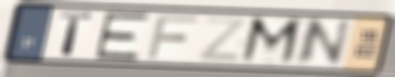E: (92, 12, 154, 62)
F: (144, 14, 200, 61)
M: (237, 15, 306, 67)
N: (291, 18, 354, 68)
T: (57, 11, 95, 58)
Z: (196, 15, 251, 64)
